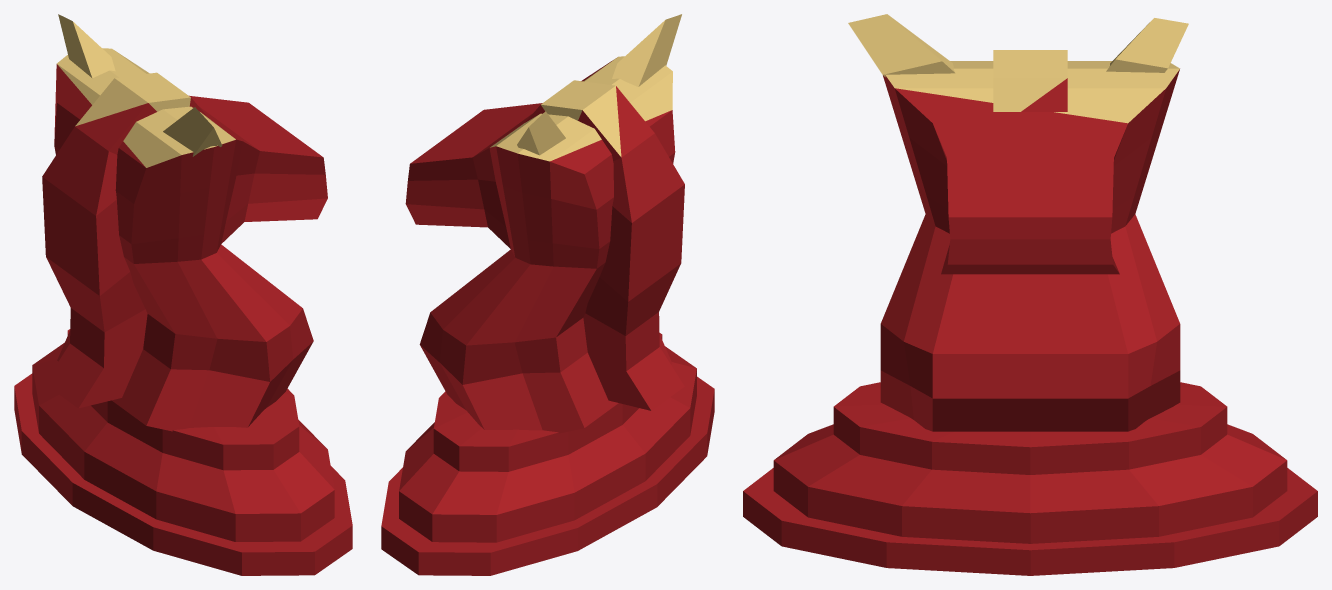
The model's file is lowpoly_n_b.glb.
3 renders of one model, left to right at view 1: azimuth 30°, elevation 25°; view 2: azimuth 150°, elevation 25°; view 3: azimuth 270°, elevation 25°, orthographic. The views are drawn at different scales.
Parts seen in each view (by area): view 1: x; view 2: x; view 3: x.
Boxes of the visible parts, x1,y1,x2,y2 form: x: [14, 14, 352, 575]; x: [381, 14, 714, 575]; x: [743, 14, 1317, 575].
Bounding box in the file's own units: 0.5061 × 0.9 × 0.9891.
